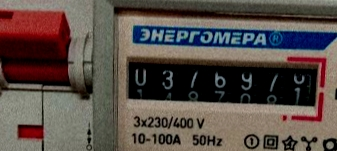0: (130, 62, 145, 85)
1: (288, 83, 300, 103)
3: (157, 66, 173, 88)
6: (209, 63, 225, 87)
7: (182, 63, 198, 87), (263, 67, 278, 91)
9: (235, 66, 251, 89)
screen: (113, 45, 326, 123)
